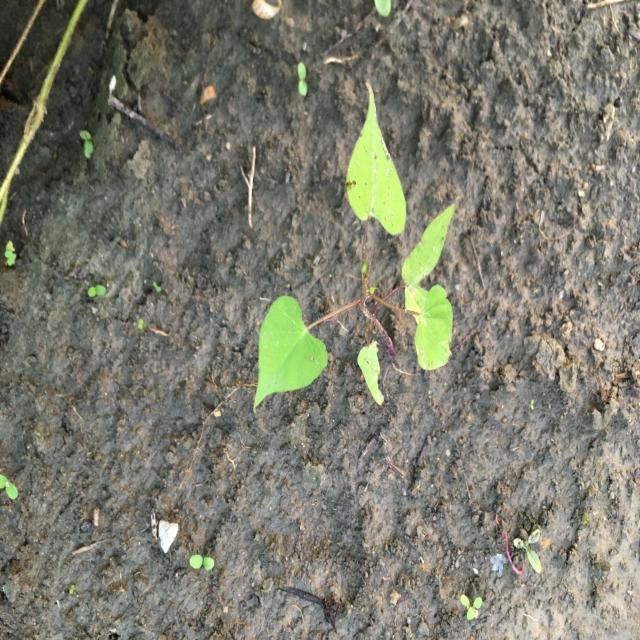MorningGlory: (252, 81, 458, 418)
